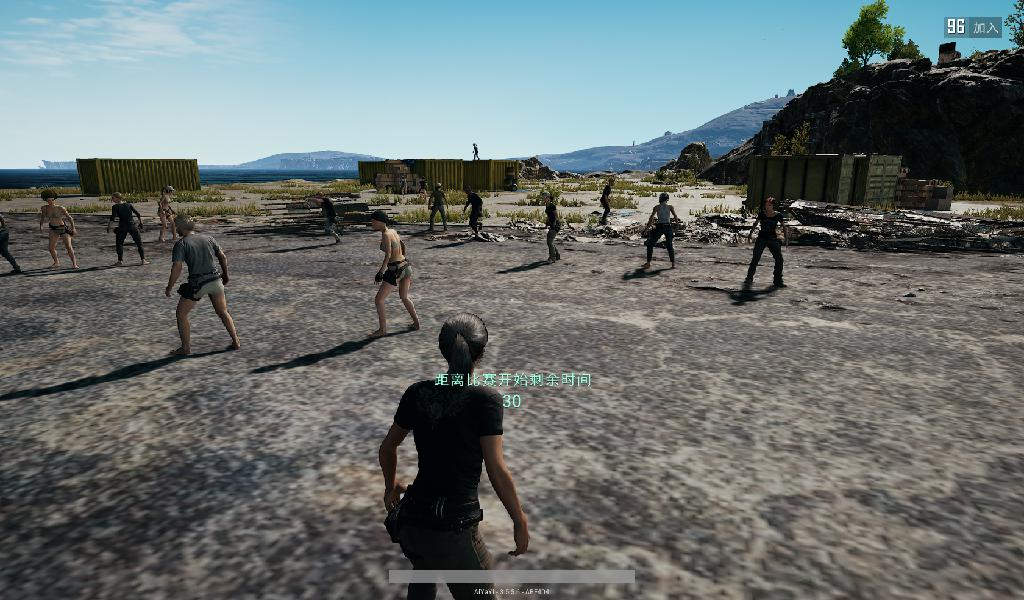Target Person: (377, 311, 530, 600), (165, 215, 241, 354), (746, 197, 786, 290), (37, 189, 79, 273), (105, 191, 148, 266), (644, 192, 679, 270), (304, 192, 344, 242), (539, 189, 563, 265), (156, 183, 180, 245), (461, 184, 483, 238), (596, 174, 615, 235), (430, 183, 448, 233), (471, 141, 480, 163)
